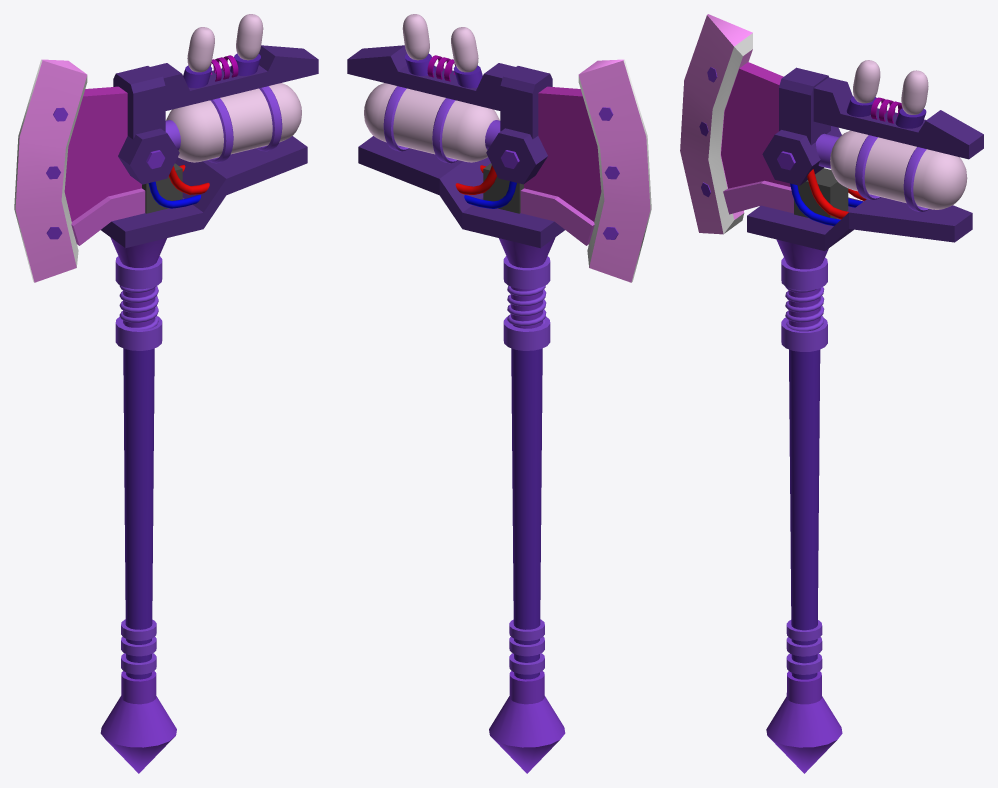
The model's file is SM_Axe3.fbx.
3 renders of one model, left to right at view 1: azimuth 30°, elevation 25°; view 2: azimuth 150°, elevation 25°; view 3: azimuth 330°, elevation 25°, orthographic.
Visible parts, largest first — view 1: Axe5; view 2: Axe5; view 3: Axe5.
Part boxes in pixels (left/top/right/bottom): Axe5: left=14, top=14, right=318, bottom=773; Axe5: left=347, top=14, right=651, bottom=773; Axe5: left=680, top=14, right=983, bottom=773.
Size of the model in its own units: 59.35 by 141 by 15.34.
